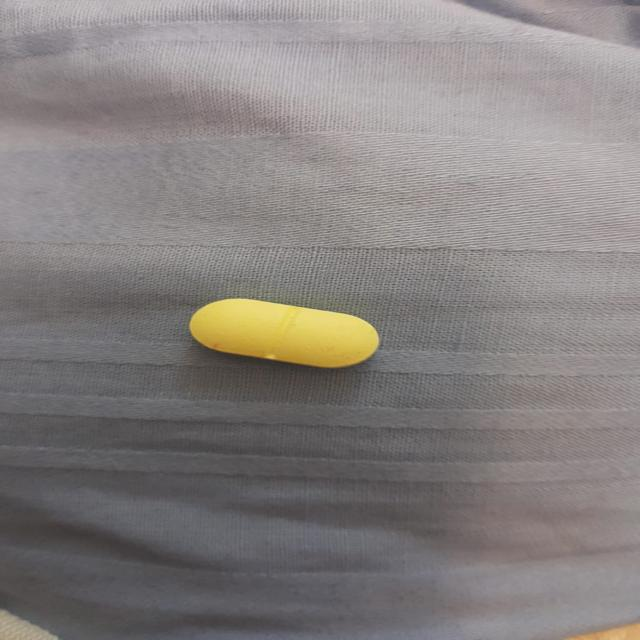pills: (176, 287, 391, 377)
